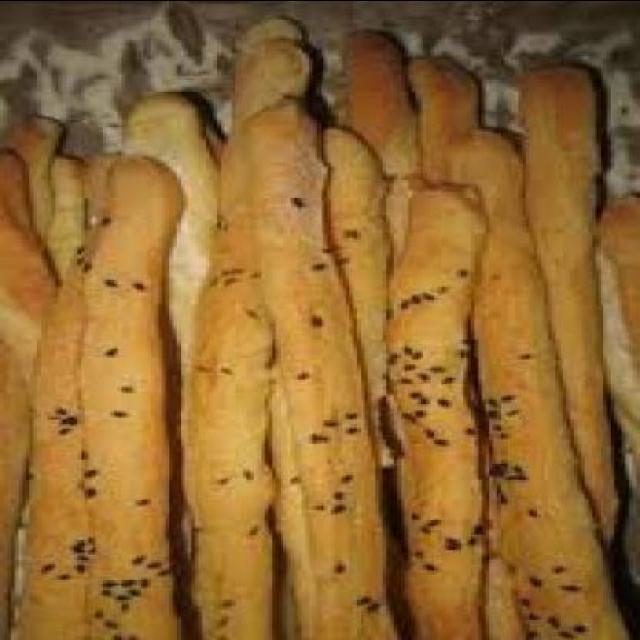Grissini: (11, 16, 600, 638)
